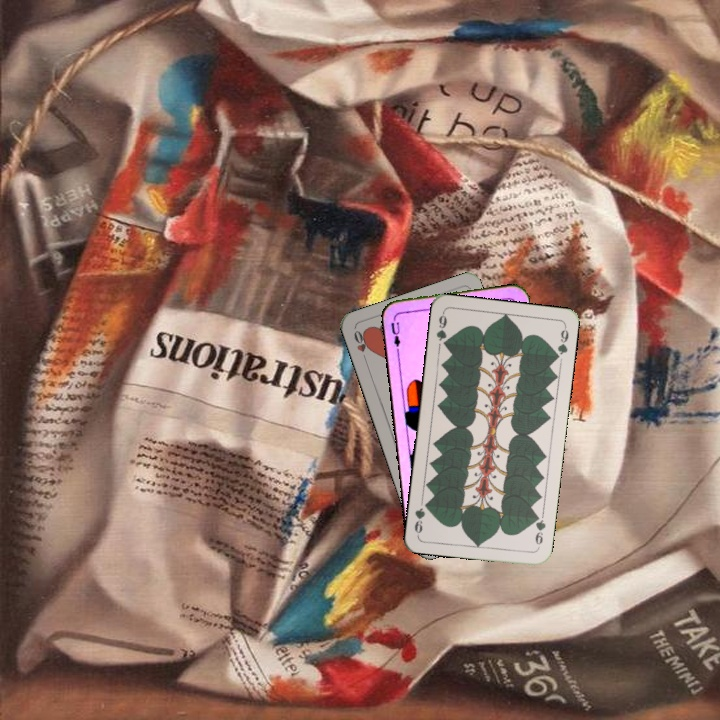EU: (387, 318, 406, 353)
G9: (432, 309, 450, 350), (531, 510, 548, 551)
HO: (350, 326, 372, 365)
